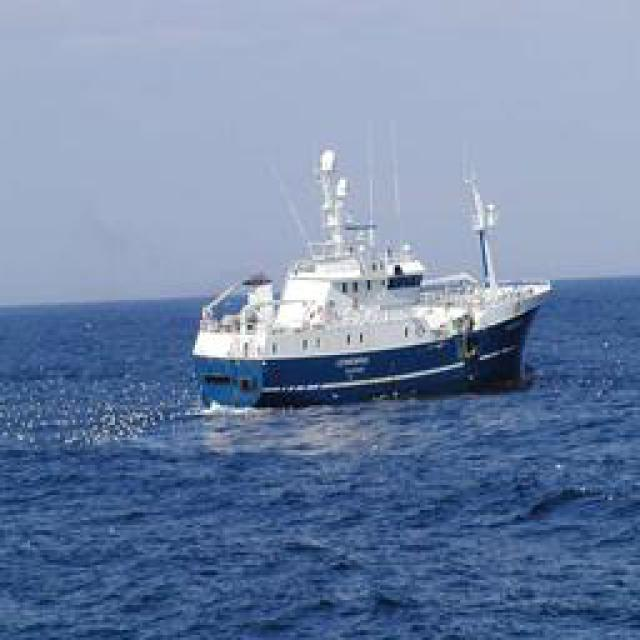Ship: (193, 135, 558, 413)
